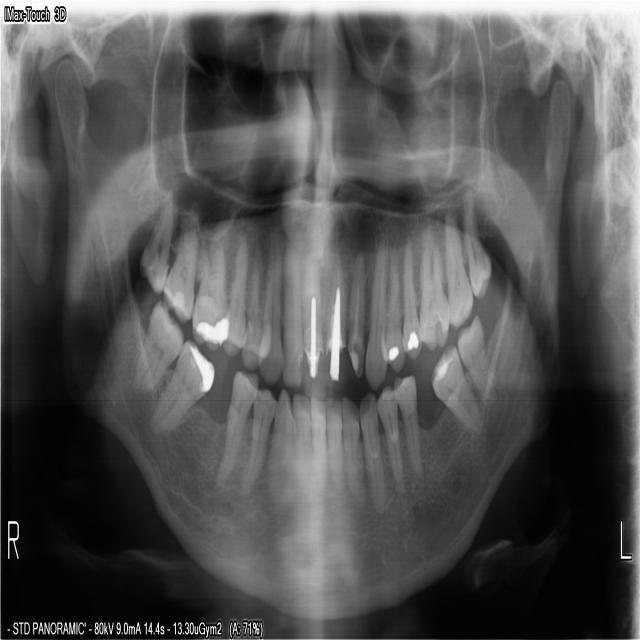LCD: (357, 391, 386, 510)
LCU: (362, 247, 388, 391)
LID: (340, 386, 367, 501), (324, 387, 344, 496)
LIU: (324, 239, 348, 389), (347, 242, 367, 373)
LMD: (428, 342, 483, 436), (455, 305, 497, 407)
LMU: (440, 205, 476, 329), (417, 221, 450, 353), (460, 194, 493, 299)
LPMD: (391, 373, 423, 473), (373, 382, 402, 485)
LPMU: (378, 235, 404, 373), (400, 241, 422, 361)
RCD: (266, 384, 295, 502)
RID: (291, 390, 311, 492), (309, 390, 327, 494)
RIU: (254, 239, 283, 386), (279, 233, 303, 387), (302, 234, 323, 390)
RMD: (152, 335, 217, 433), (130, 295, 185, 395)
RMU: (190, 238, 231, 354), (159, 217, 203, 325), (135, 194, 176, 296)
RPMD: (216, 361, 258, 480), (236, 380, 277, 493)
RPMU: (238, 242, 275, 370), (219, 240, 249, 360)
